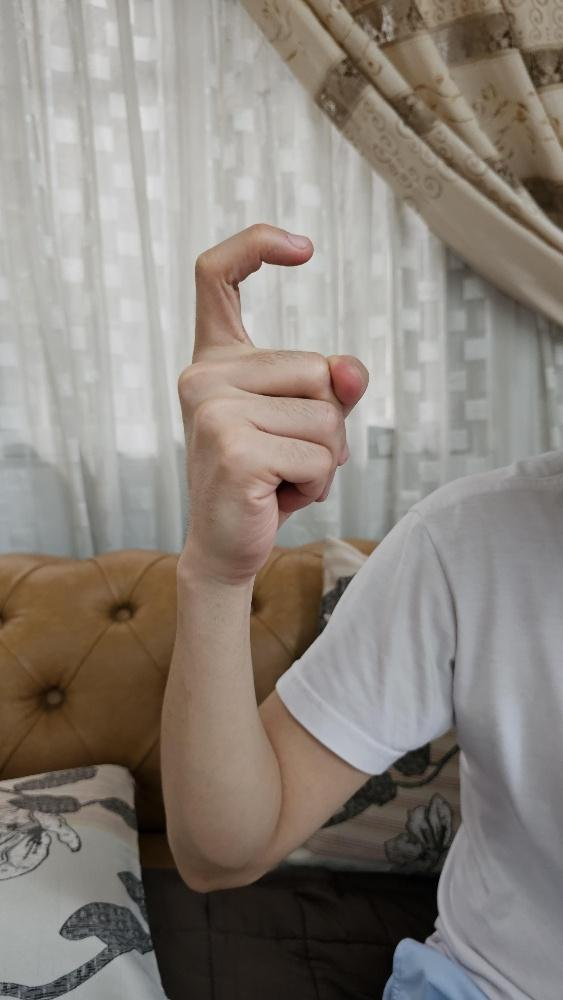x: (173, 219, 373, 591)
